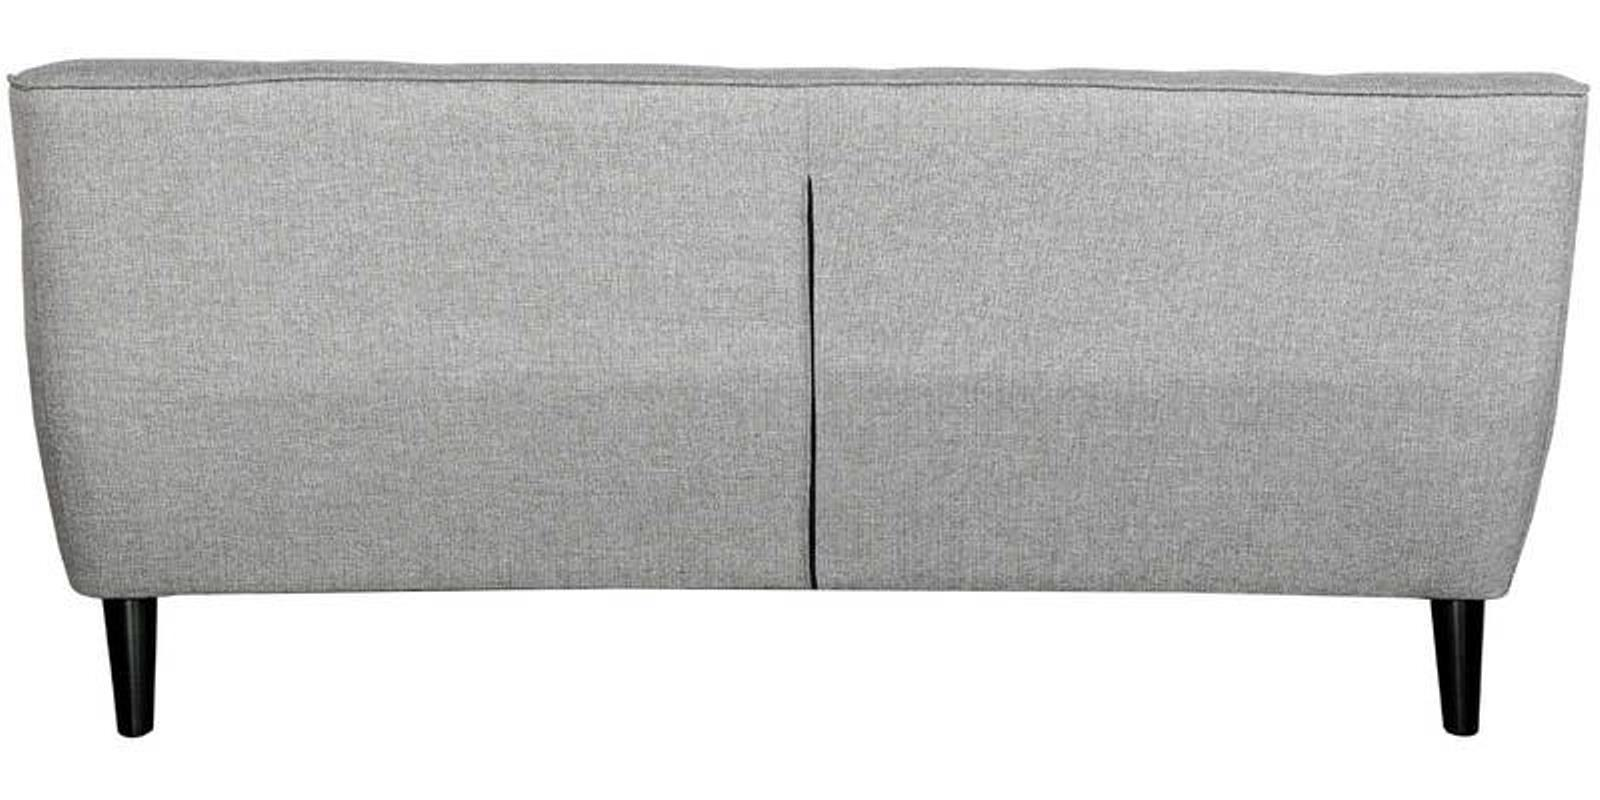Bogota Three Seater Sofa in Grey Colour by CasaCraft: (9, 31, 1590, 667)
